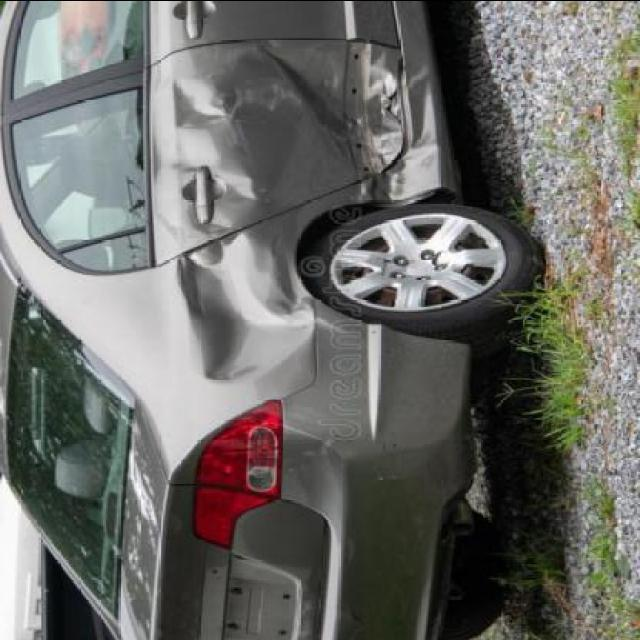RunningBoard-Dent: (400, 26, 451, 203)
doorouter-dent: (159, 34, 401, 231)
quaterpanel-dent: (131, 249, 440, 443)
